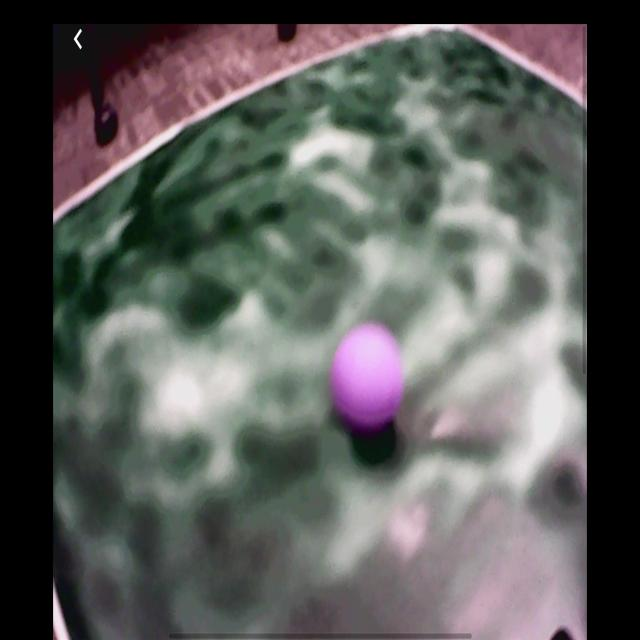ball: (331, 325, 400, 428)
